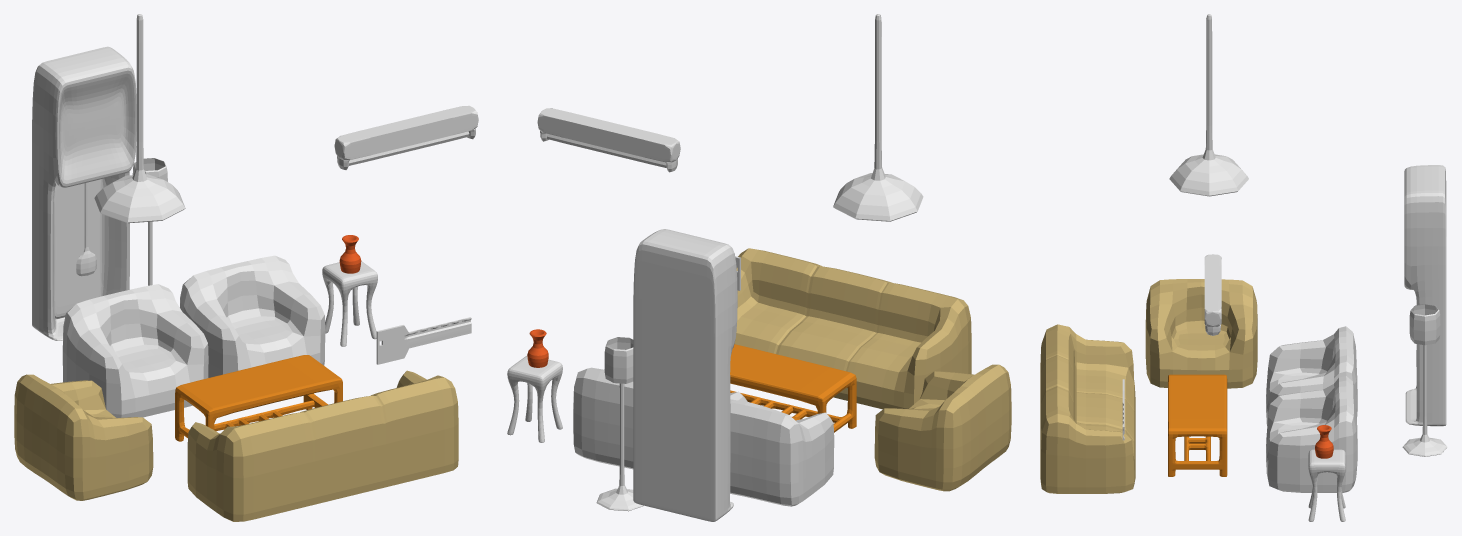
The model's file is Benda.fbx.
3 views of the same model, side by side, from view 1: azimuth 30°, elevation 25°; view 2: azimuth 150°, elevation 25°; view 3: azimuth 270°, elevation 25° (orthographic). The views are drawn at different scales.
Visible parts, largest first — view 1: Sofa 1, Jam, Cube.003, Cube, Cube.004, Cube.002, Lampu Gantung 1, Cube.005, meja hias, Cube.001, Lampu hias, Bandul (+2 smaller); view 2: Jam, Sofa 1, Cube, Cube.003, Cube.002, Cube.004, Lampu Gantung 1, Cube.005, Lampu hias, meja hias, Cube.006, Cylinder; view 3: Sofa 1, Cube, Jam, Cube.004, Cube.002, Cube.003, Lampu Gantung 1, Lampu hias, Cube.005, meja hias, Cylinder.
Boxes of the visible parts, <box> form: Sofa 1: <box>187,370,458,521</box>; Jam: <box>32,46,136,340</box>; Cube.003: <box>62,284,208,417</box>; Cube: <box>14,374,153,500</box>; Cube.004: <box>180,255,325,377</box>; Cube.002: <box>175,355,342,441</box>; Lampu Gantung 1: <box>94,14,185,223</box>; Cube.005: <box>334,105,478,169</box>; meja hias: <box>322,261,377,346</box>; Cube.001: <box>376,317,471,364</box>; Lampu hias: <box>132,158,167,285</box>; Bandul: <box>76,182,96,276</box>; Jam: <box>633,229,737,521</box>; Sofa 1: <box>734,248,971,409</box>; Cube: <box>874,364,1011,491</box>; Cube.003: <box>730,391,834,506</box>; Cube.002: <box>730,344,856,432</box>; Cube.004: <box>573,367,633,469</box>; Lampu Gantung 1: <box>833,14,923,221</box>; Cube.005: <box>537,108,680,172</box>; Lampu hias: <box>596,337,643,511</box>; meja hias: <box>507,355,562,442</box>; Cube.006: <box>546,133,666,167</box>; Cylinder: <box>527,329,548,367</box>; Sofa 1: <box>1040,324,1135,493</box>; Cube: <box>1145,279,1257,388</box>; Jam: <box>1404,165,1446,426</box>; Cube.004: <box>1266,376,1357,492</box>; Cube.002: <box>1168,374,1227,476</box>; Cube.003: <box>1266,326,1357,425</box>; Lampu Gantung 1: <box>1169,14,1248,196</box>; Lampu hias: <box>1402,304,1447,456</box>; Cube.005: <box>1204,254,1221,335</box>; meja hias: <box>1308,449,1345,521</box>; Cylinder: <box>1315,425,1333,458</box>.
Bounding box in the file's own units: 522 × 502 × 479.
